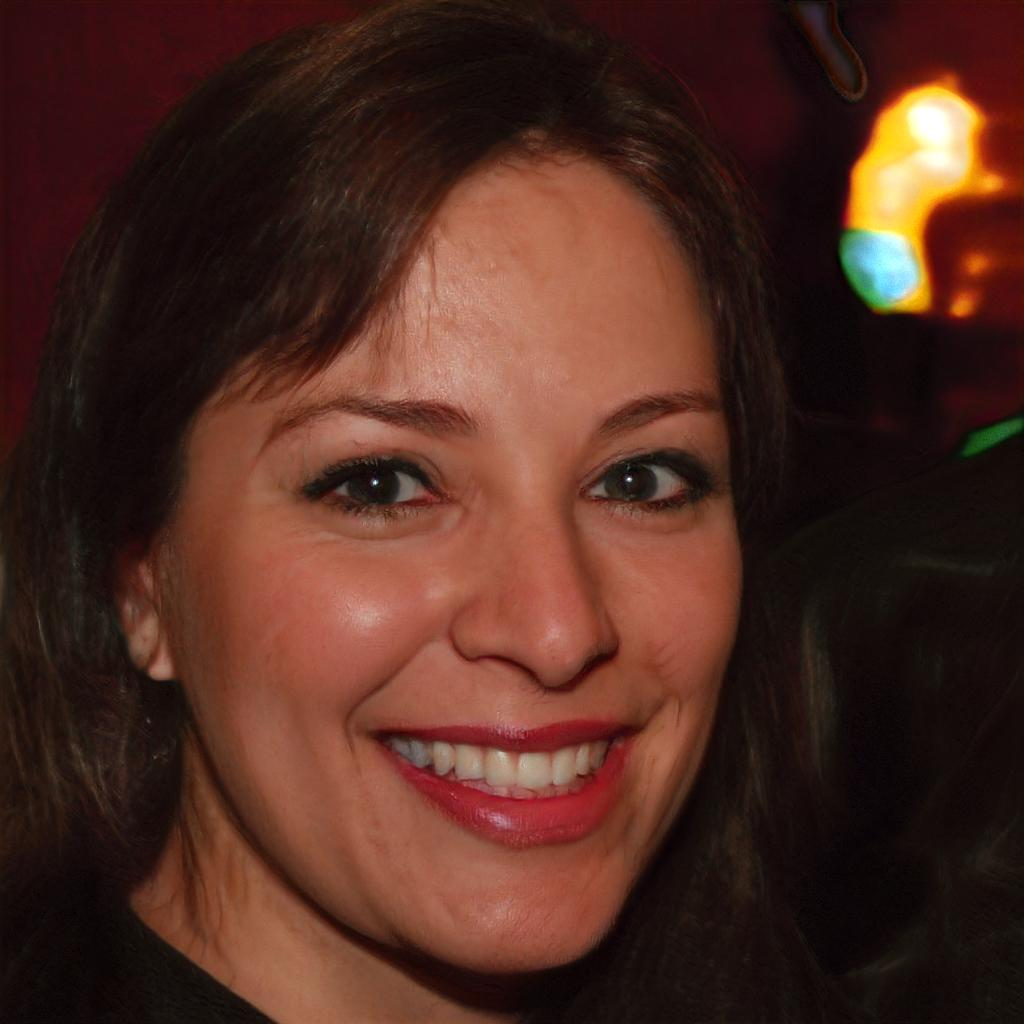face: (179, 155, 743, 972)
